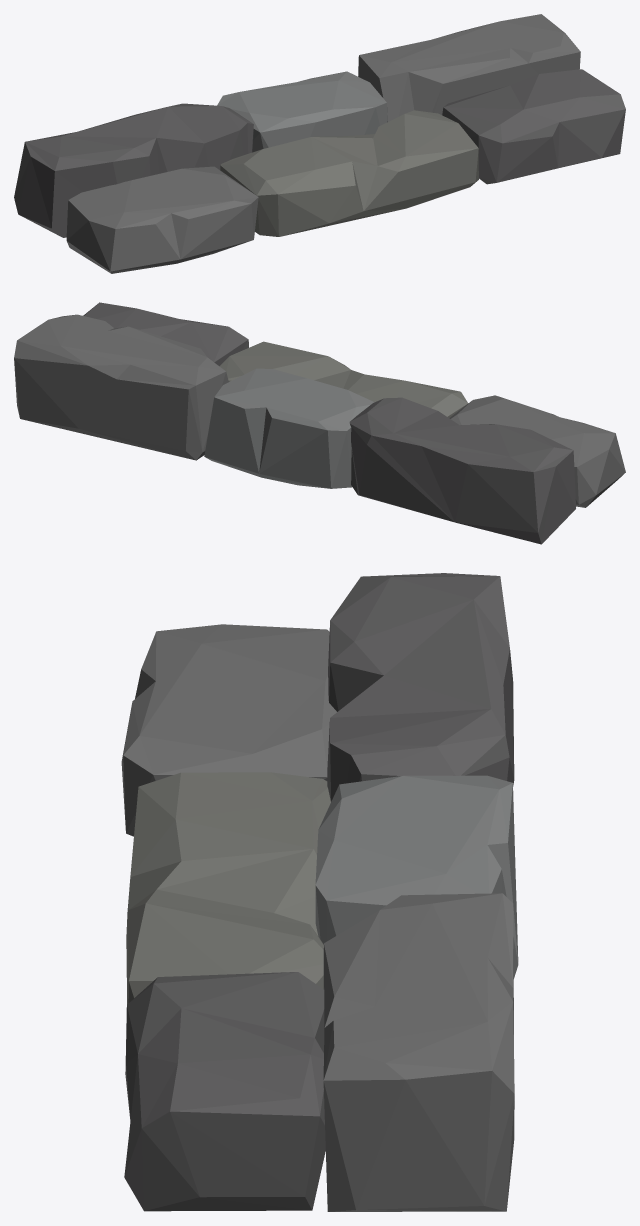
Rendered from um_stair003.FBX.
3 renders of one model, top to bottom at view 1: azimuth 30°, elevation 25°; view 2: azimuth 150°, elevation 25°; view 3: azimuth 270°, elevation 25°, orthographic. The views are drawn at different scales.
Parts seen in each view (by area): view 1: um_stair003; view 2: um_stair003; view 3: um_stair003.
Part boxes in pixels (x1,y1,x2,y2): um_stair003: [14, 14, 625, 273]; um_stair003: [14, 302, 625, 544]; um_stair003: [121, 573, 518, 1211].
Bounding box in the file's own units: 3.44 × 0.4898 × 1.12.
